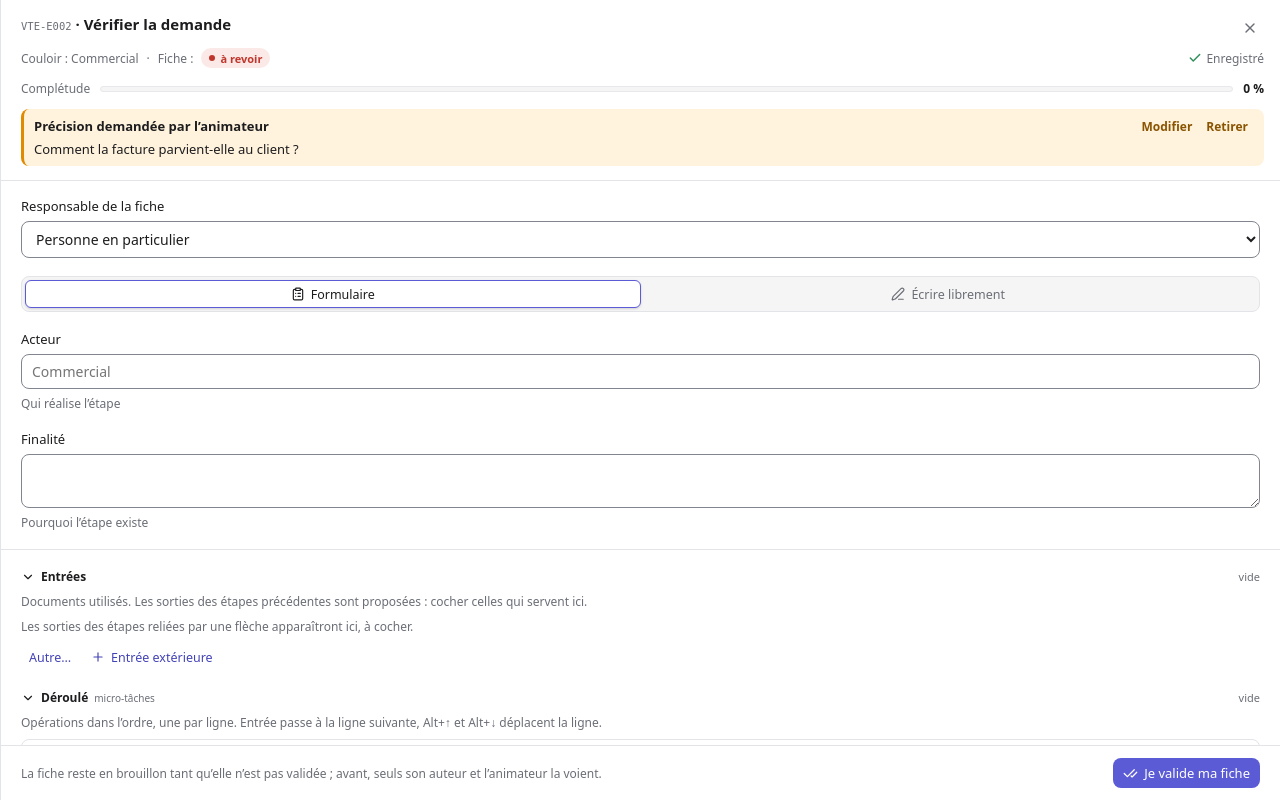
Test: the question of the facilitator, rewritten or removed (spec 3.0 section 16) › Escape or « Annuler » gives the field up and leaves the sheet open, nothing sent
Click the button with test id "sheet-clarification-edit". click: [1167, 126]
box: left=1136, top=117, right=1198, bottom=136
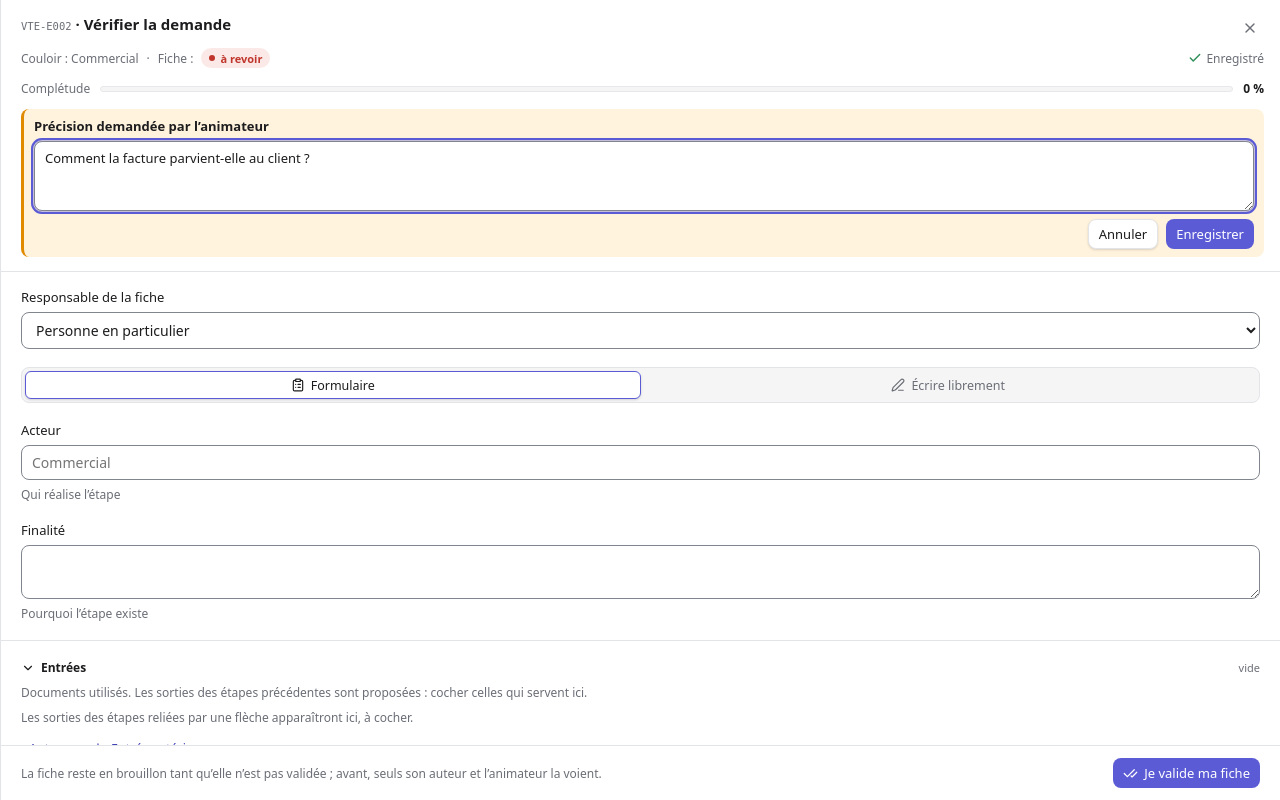
Press Escape in the text box with test id "sheet-clarification-field", box left=34, top=141, right=1254, bottom=211
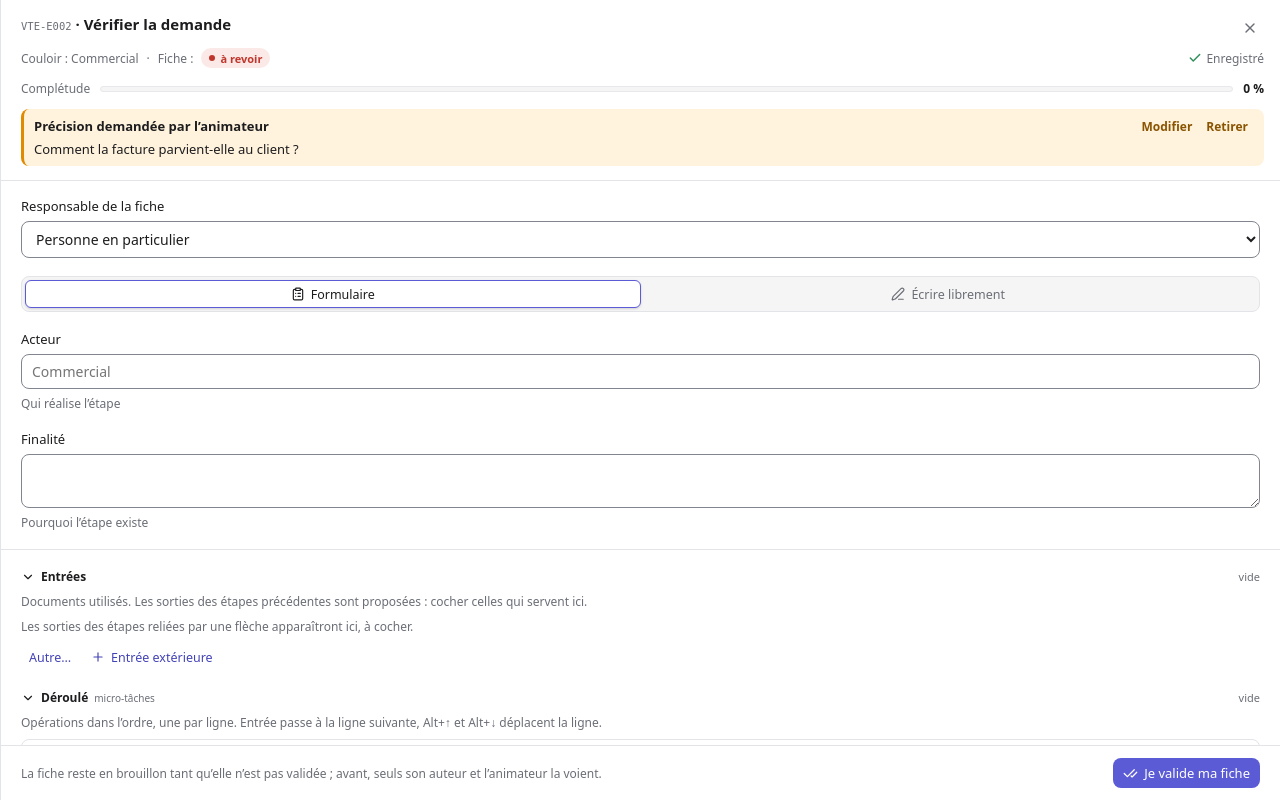
expect the text box with test id "sheet-clarification-field" is gone: met
Click the button with test id "sheet-clarification-edit". click: [1167, 126]
box: left=1136, top=117, right=1198, bottom=136
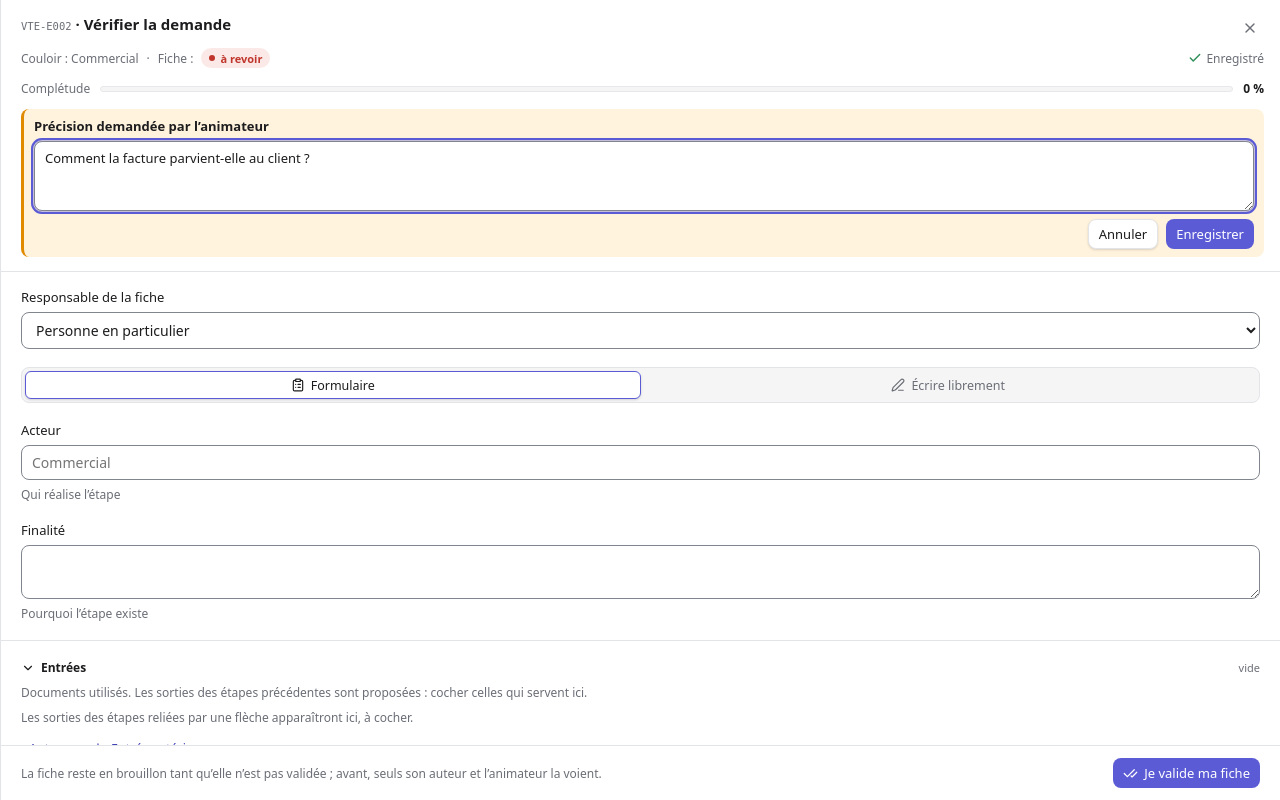
Click the button with test id "sheet-clarification-edit-cancel". click: [1123, 234]
box: left=1088, top=219, right=1158, bottom=249
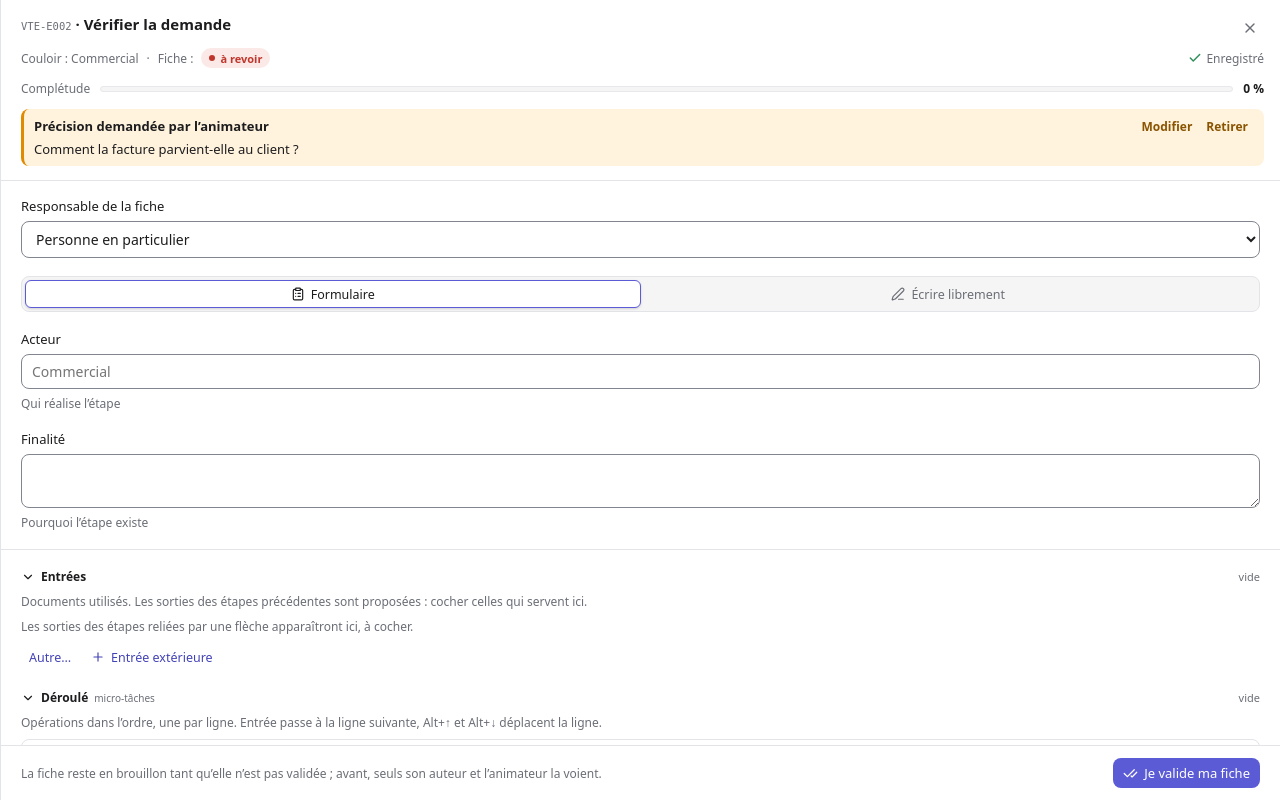
expect the text box with test id "sheet-clarification-field" is gone: met
expect the element that starts with "Précision demandée par l’animateur" shows "Comment la facture parvient-elle au client ?": met, box left=34, top=140, right=299, bottom=158
